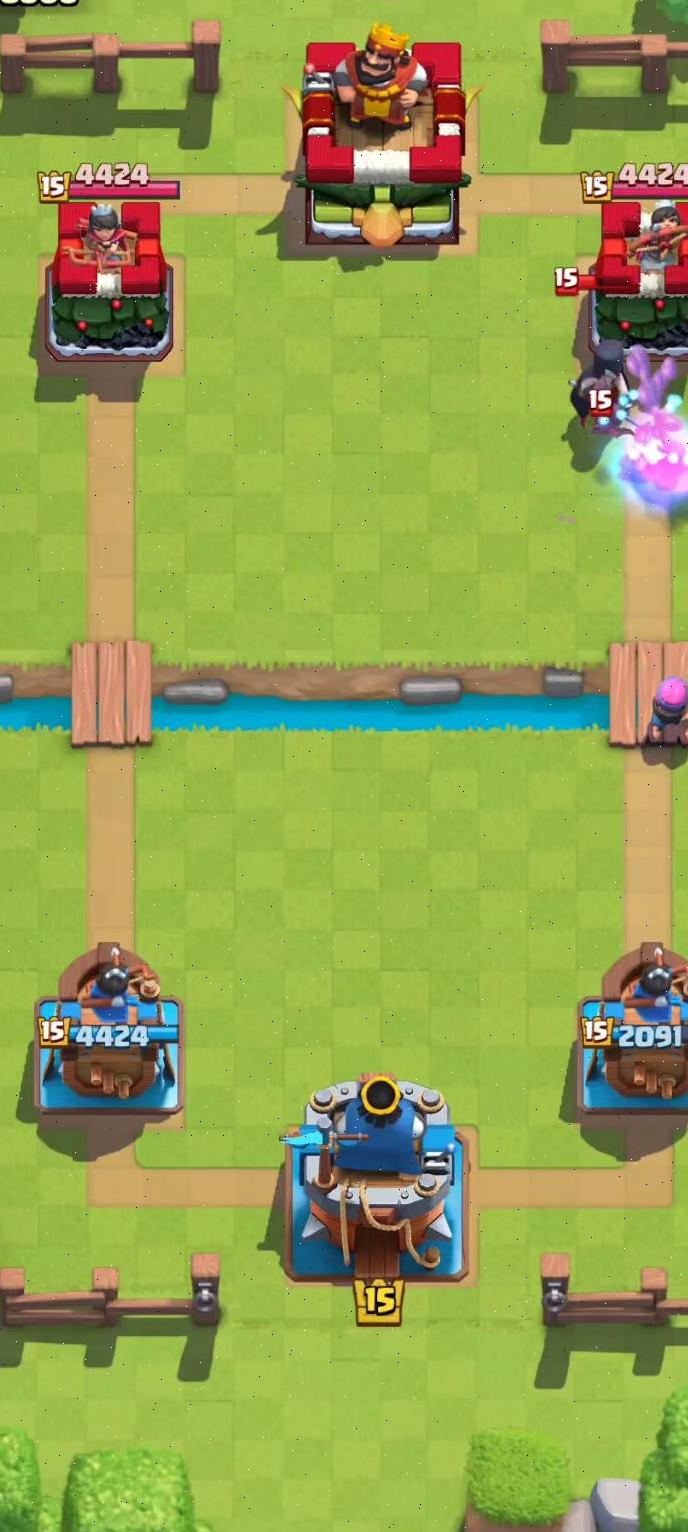enemy_bats: (567, 379, 634, 450)
enemy_night_witch: (572, 327, 645, 430)
player_firecraker: (639, 654, 688, 748)
